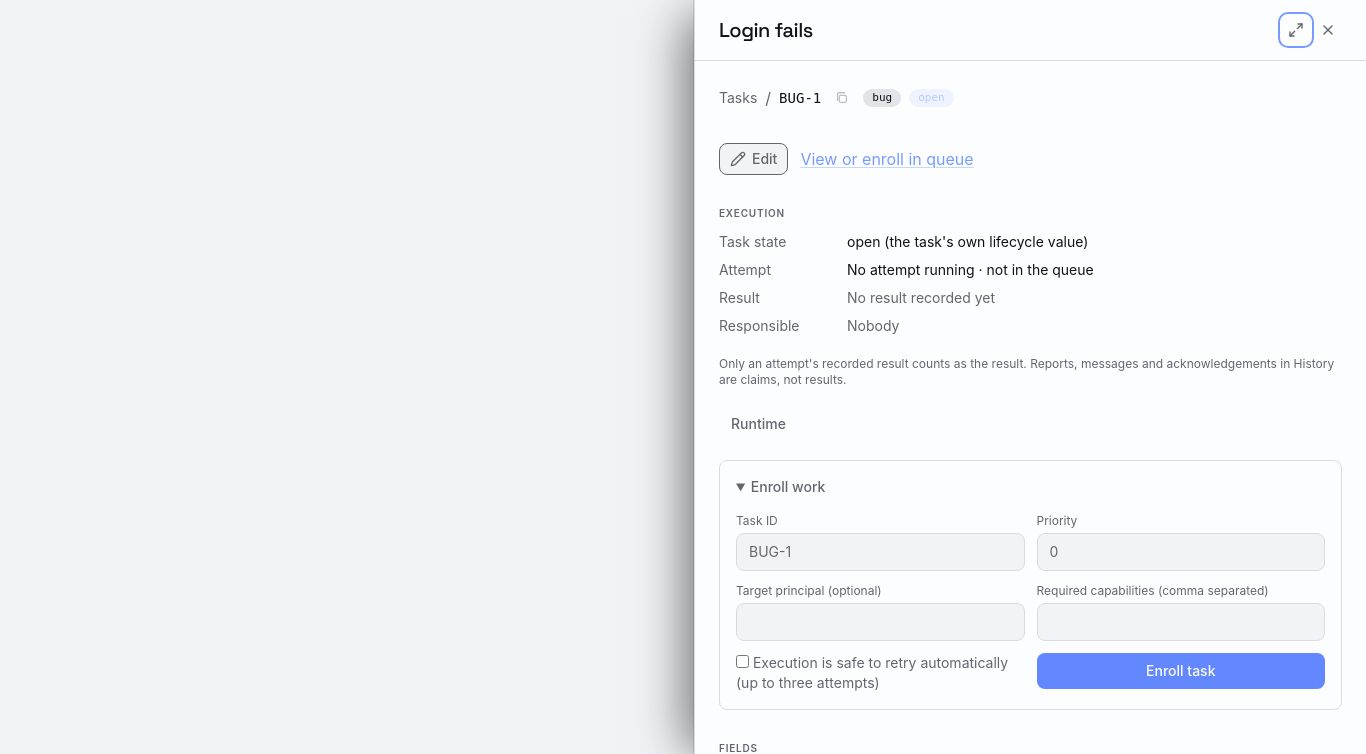
Test case: edits under a claim and sends only changed fields with its fence
Click the button "Edit" at (754, 159), box [719,143,788,175]
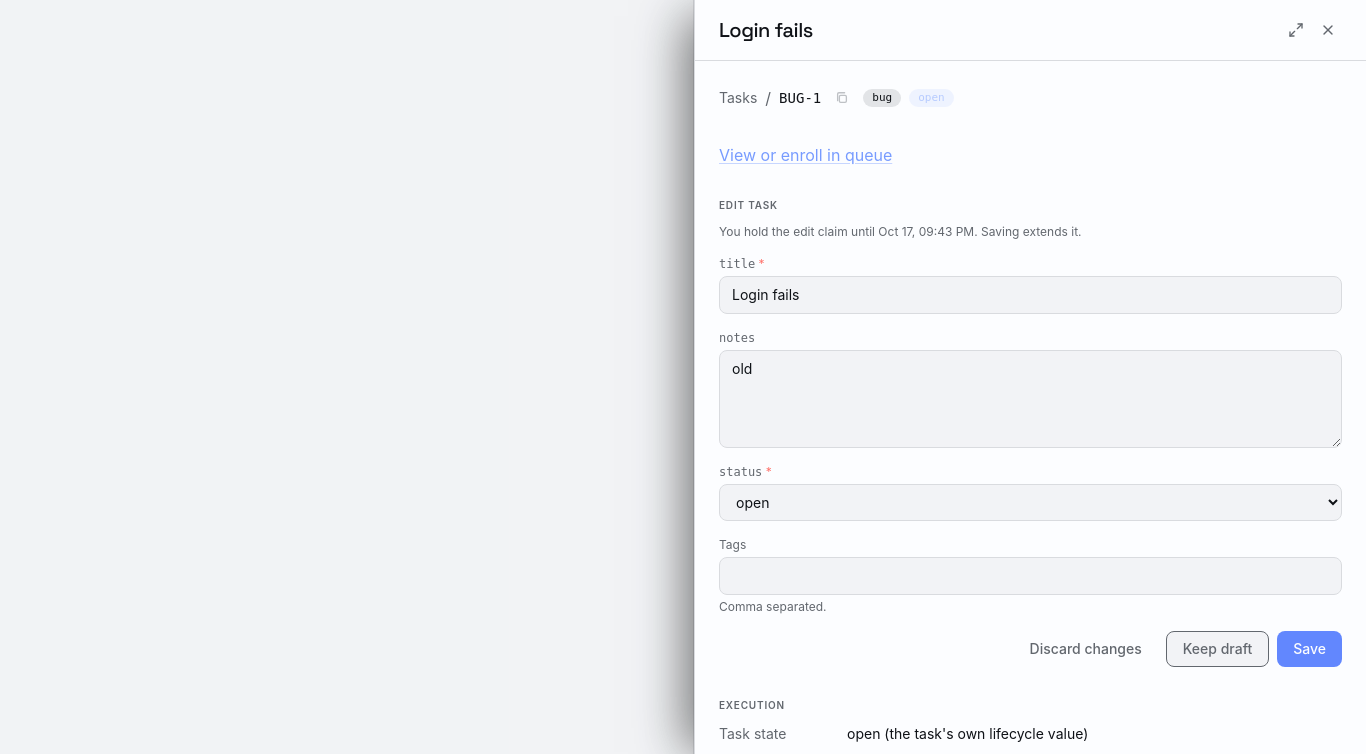
expect the text "You hold the edit claim" is shown: met, box [719,224,878,239]
Replace the text in the text box labelled "notes" with "new" at (1030, 399), box [719,350,1342,448]
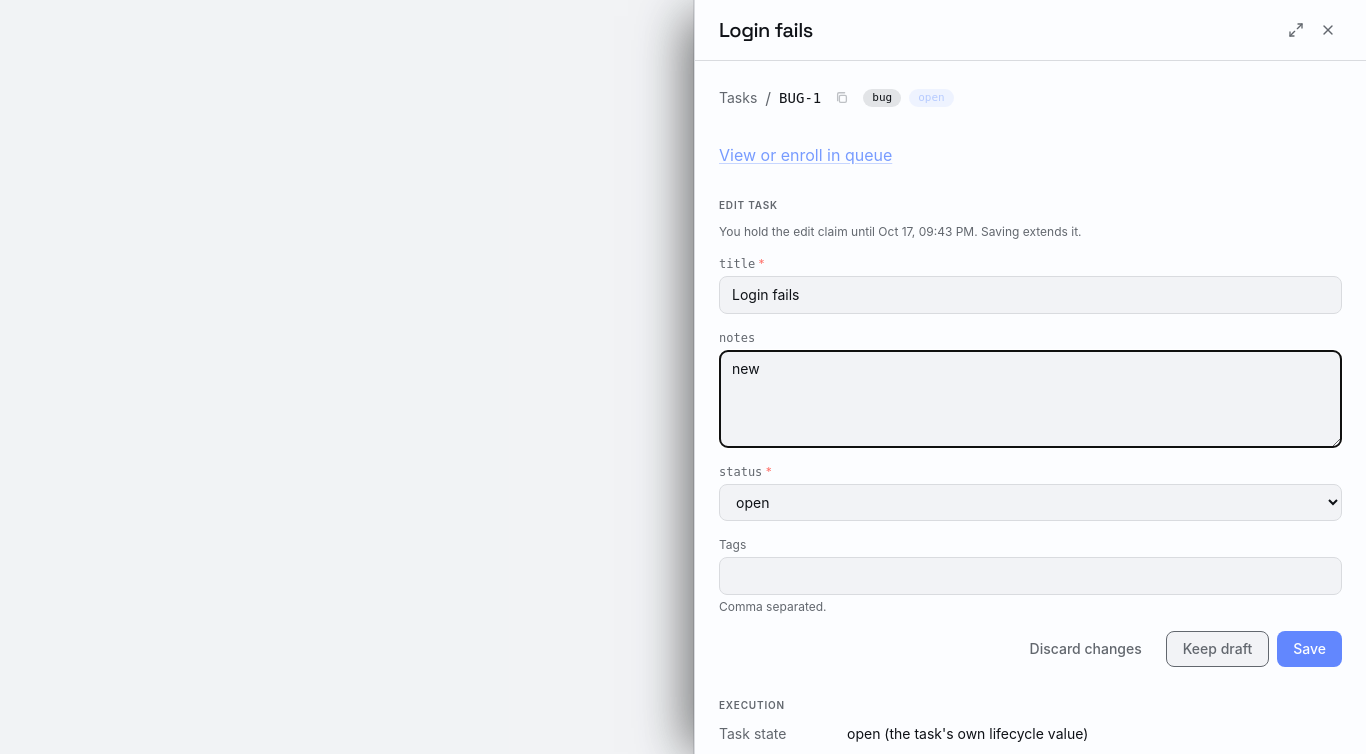
Select "done" in the dropdown labelled "status *" at (1030, 502), box [719,484,1342,521]
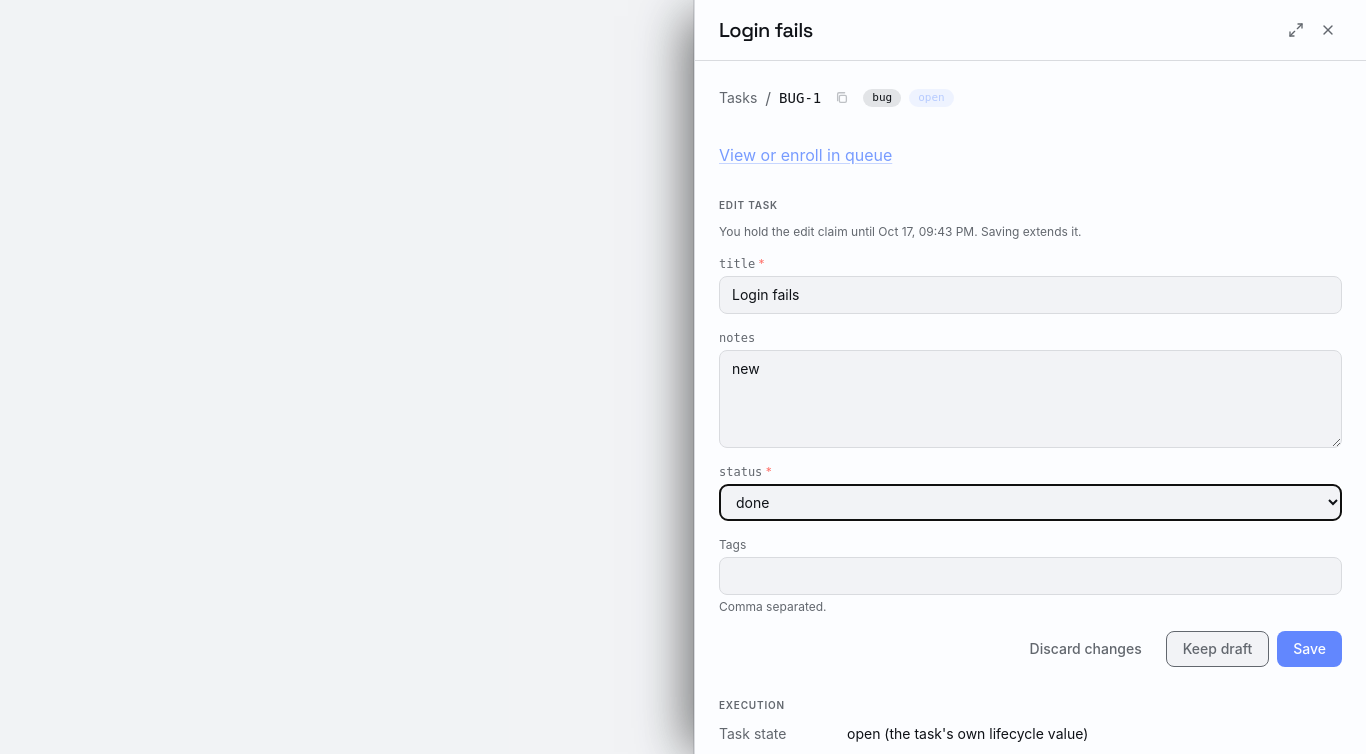
Click the button "Save" at (1310, 649), box [1277,631,1342,667]
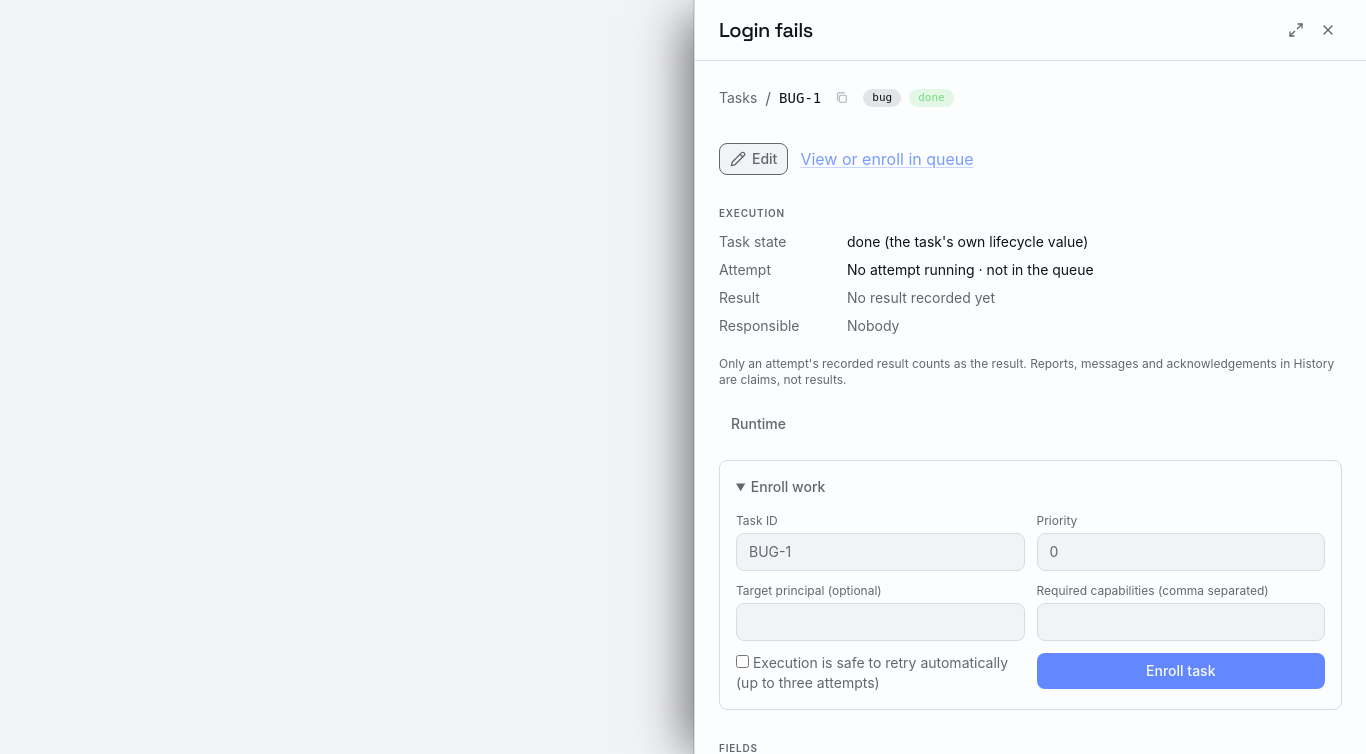
expect the button "Save" is gone: met
